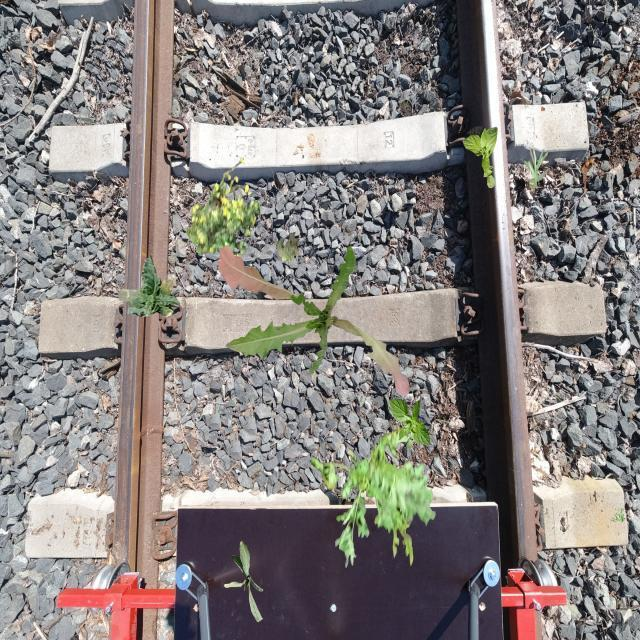Plant: (217, 245, 410, 397), (311, 422, 436, 569), (186, 158, 261, 263), (117, 255, 180, 317), (224, 540, 264, 622), (462, 126, 498, 188), (389, 397, 431, 450), (523, 147, 550, 189), (274, 233, 300, 265), (612, 507, 626, 522)
